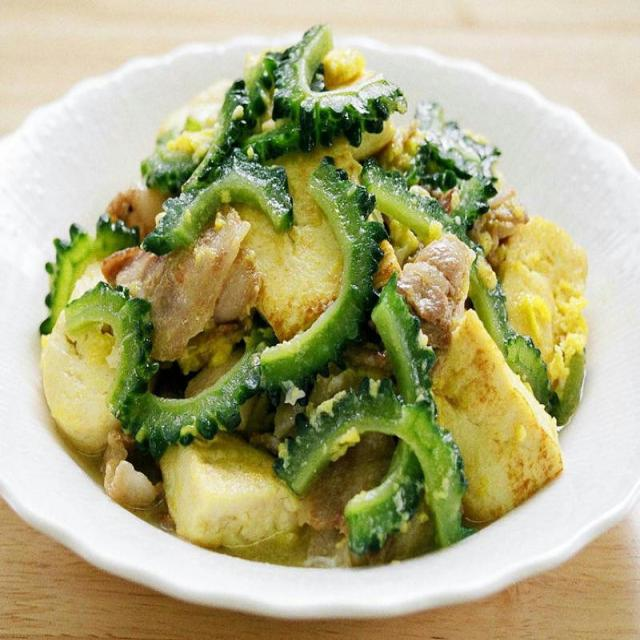熟制海鲜: (0, 30, 640, 607)
